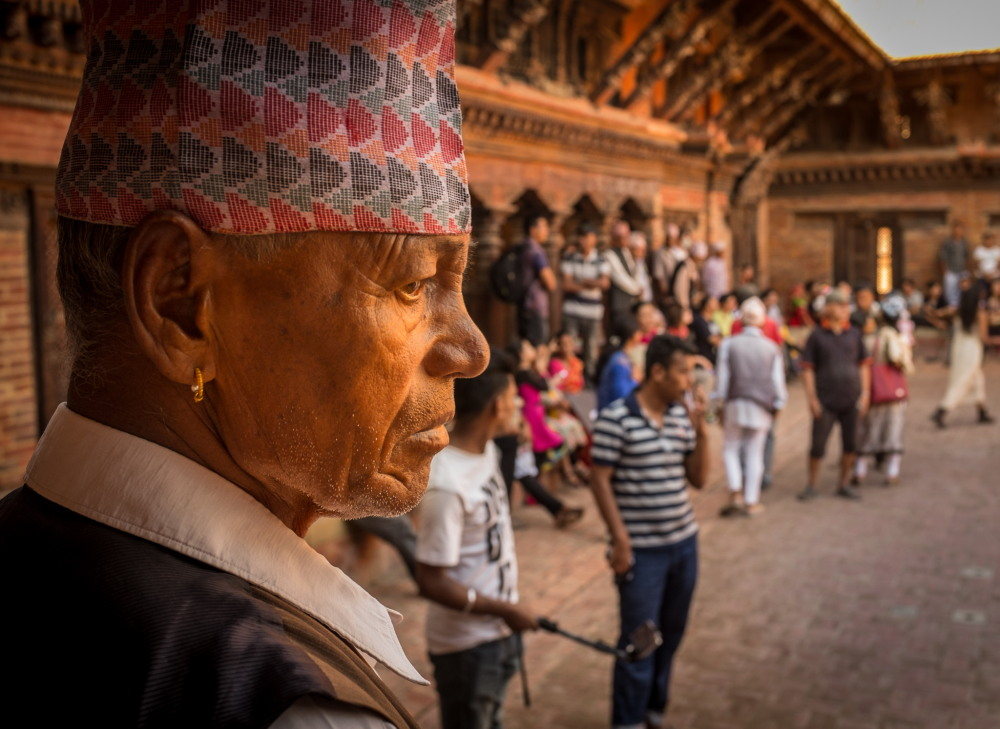human: (1, 3, 501, 729), (581, 333, 728, 729), (399, 339, 544, 729), (706, 284, 783, 522), (797, 279, 872, 515), (928, 267, 1000, 450), (867, 287, 923, 502)
